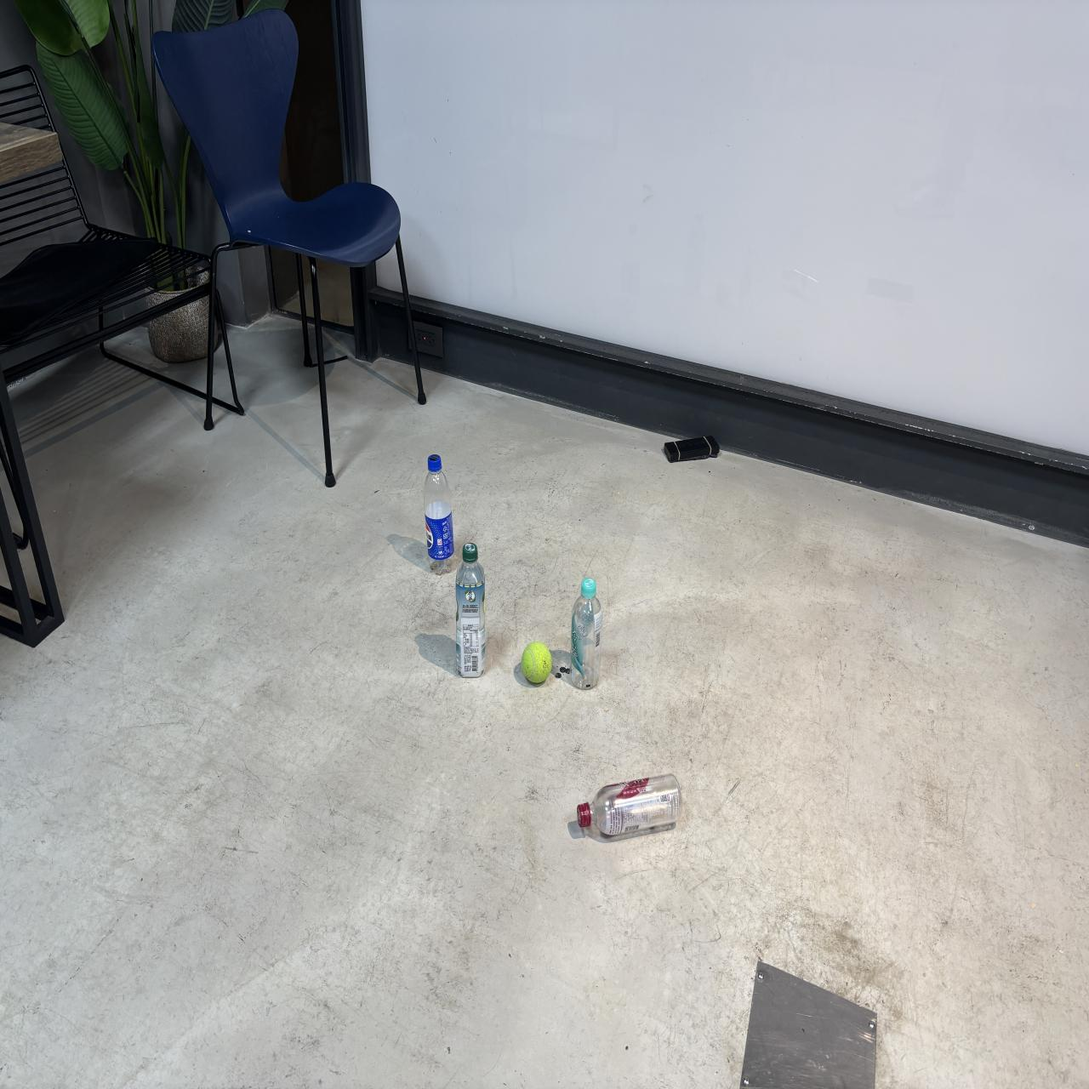plastic-bottle: (456, 543, 485, 676), (571, 579, 602, 688), (425, 455, 453, 573)
tennisball: (522, 642, 551, 684)
